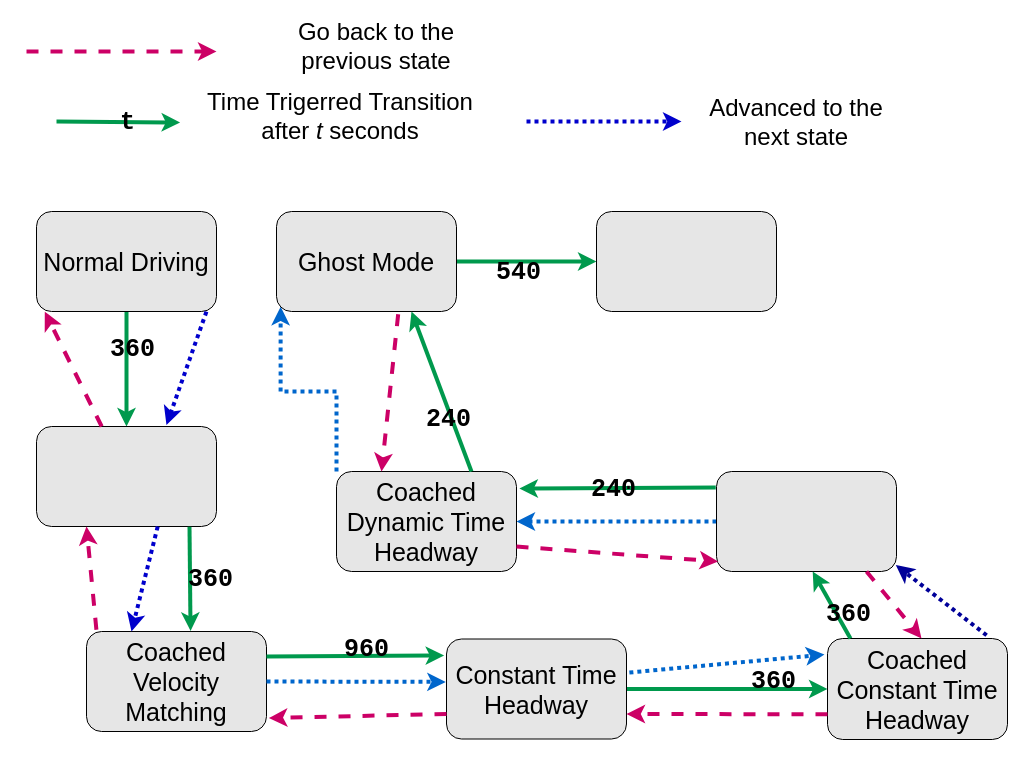
This 1025x757 diagram has some shape labels left out. Here are the shapes that lost their labels. From the top down, the centre of each, then its label:
At (686,261): "End".
At (126,476): "Instructed Velocity Matching".
At (806,521): "Instructed Dynamic Time Headway".
